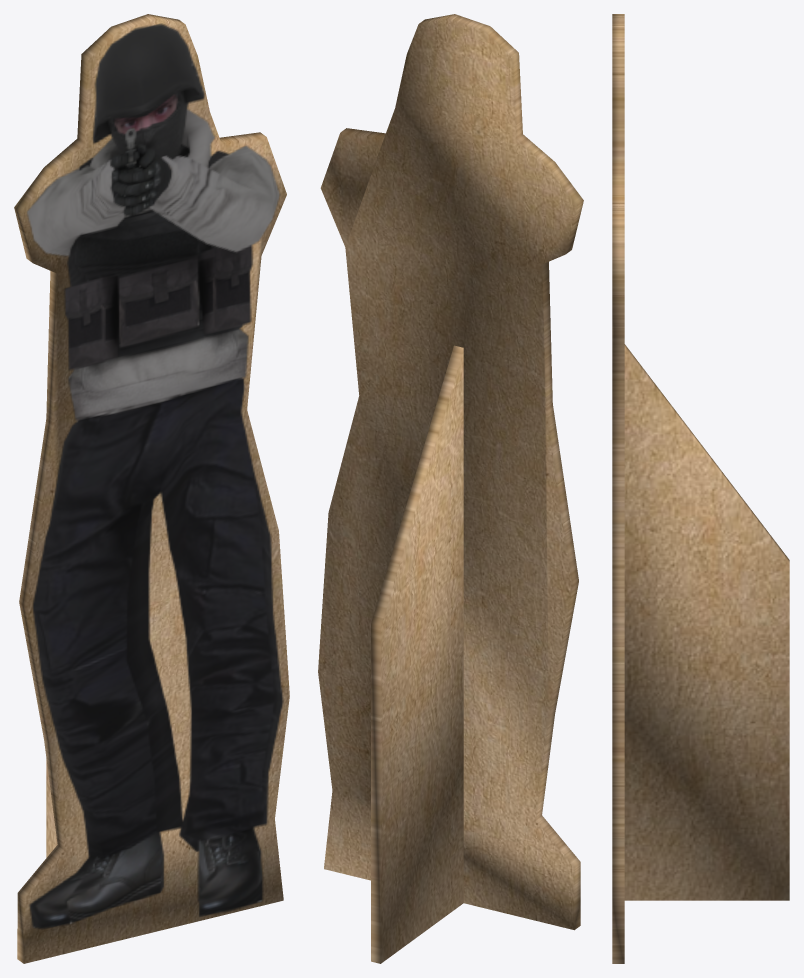
File: CardboardCutout.glb
3 renders of one model, left to right at view 1: azimuth 30°, elevation 25°; view 2: azimuth 150°, elevation 25°; view 3: azimuth 270°, elevation 25°, orthographic. The views are drawn at different scales.
Visible parts, largest first — view 1: CardboardCutout; view 2: CardboardCutout; view 3: CardboardCutout.
Boxes of the visible parts, x1,y1,x2,y2 form: CardboardCutout: (14,14,289,963); CardboardCutout: (318,14,583,963); CardboardCutout: (612,14,789,963).
Bounding box in the file's own units: 0.5914 × 1.92 × 0.3523.
Materials: 2 (2 with a texture image).
